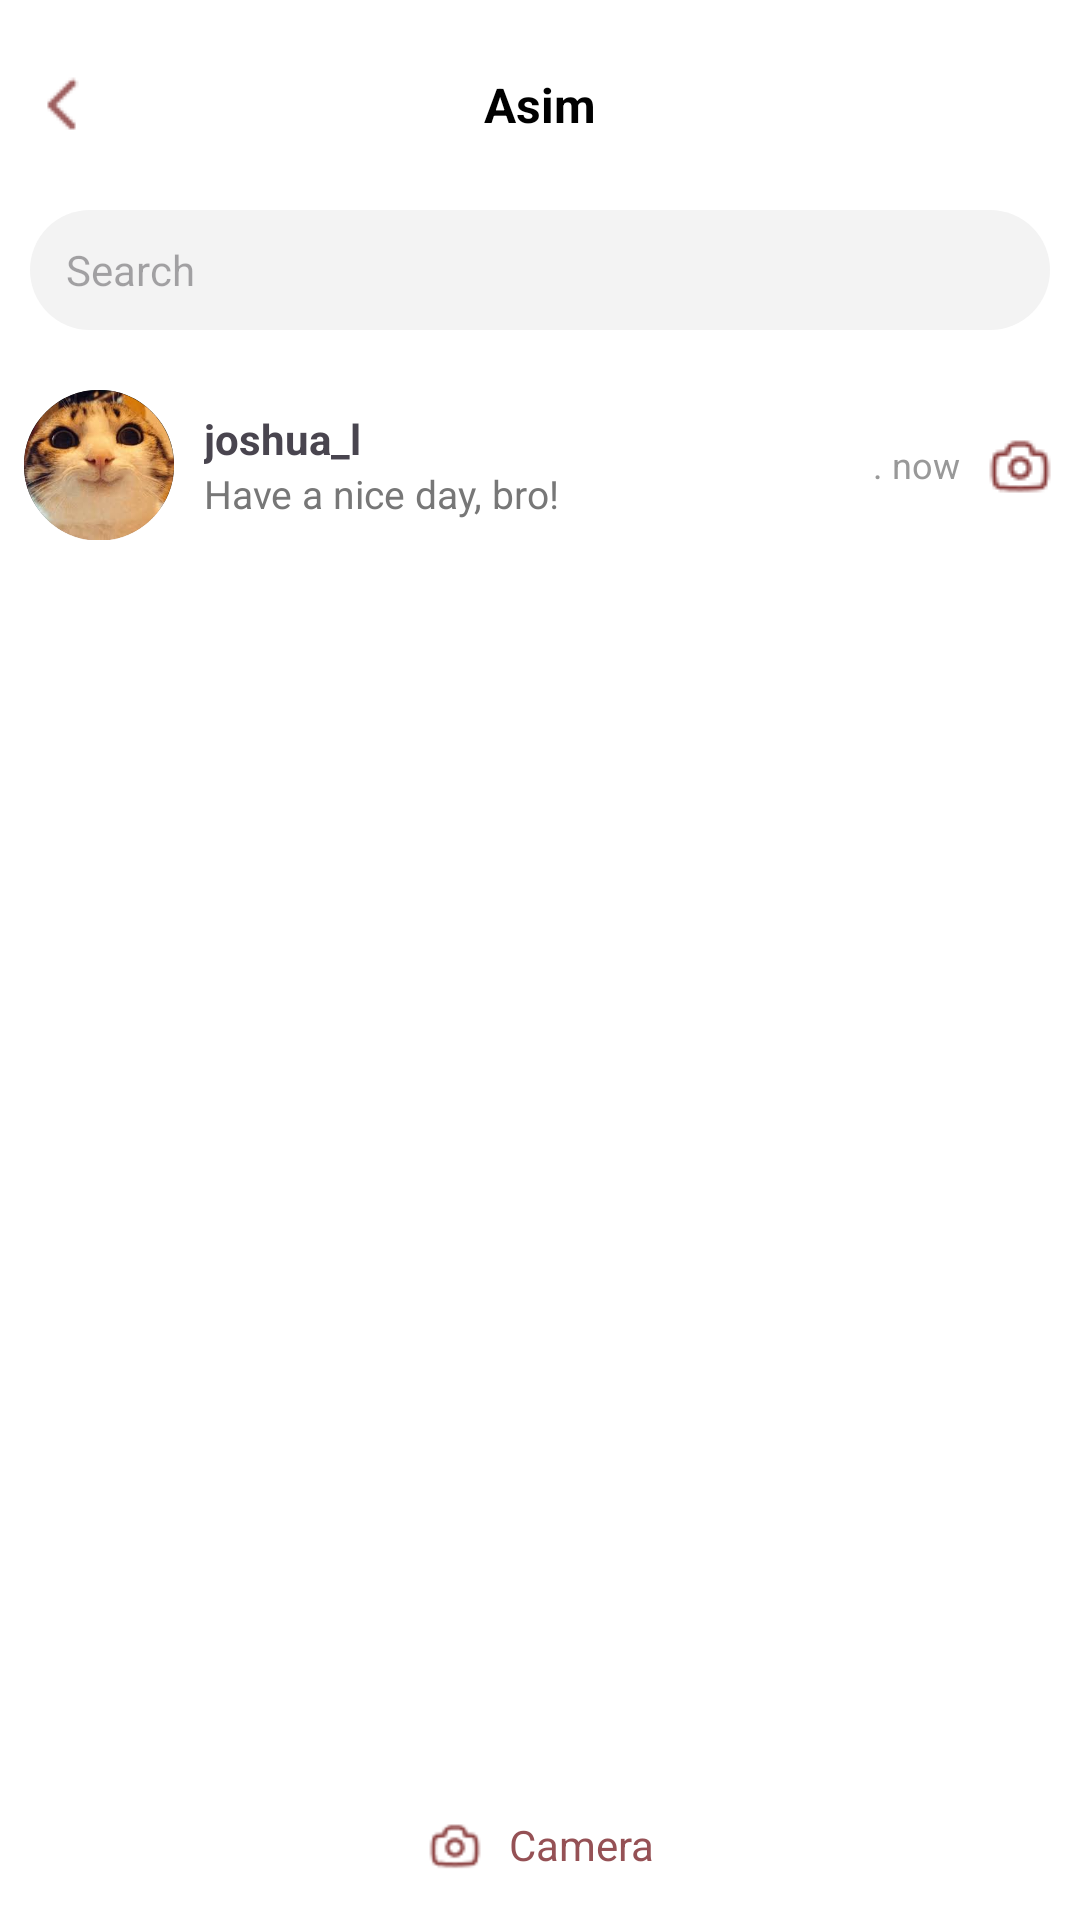

Icons on this 1080*1920 Android screen, each with the point to tap as (x=x, y=y):
back brown: (x=62, y=104)
profile circular: (x=99, y=465)
